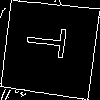T: (24, 24, 77, 61)
